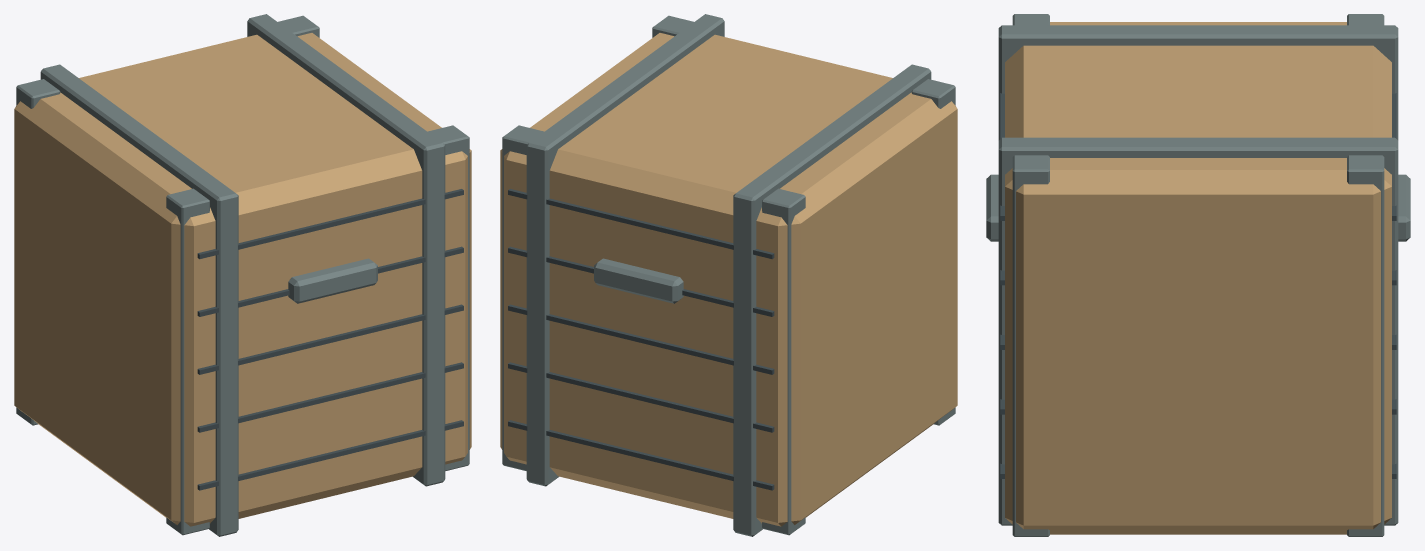
Rendered from crate.glb.
3 renders of one model, left to right at view 1: azimuth 30°, elevation 25°; view 2: azimuth 150°, elevation 25°; view 3: azimuth 270°, elevation 25°, orthographic. The views are drawn at different scales.
Visible parts, largest first — view 1: CrateBody, Band.001, Band, Detail corner guard, Detail handle, Detail plank seam.004, Detail plank seam, Detail plank seam.002, Detail plank seam.008, Detail corner guard.002, Detail plank seam.006, Detail corner guard.001 (+1 smaller); view 2: CrateBody, Band.001, Band, Detail corner guard.001, Detail handle.001, Detail plank seam.005, Detail plank seam.001, Detail plank seam.003, Detail plank seam.009, Detail corner guard.003, Detail plank seam.007, Detail corner guard (+1 smaller); view 3: CrateBody, Band.001, Band, Detail corner guard.002, Detail corner guard.003, Detail handle, Detail handle.001.
Part boxes in pixels (x1,y1,x2,y2): CrateBody: [14, 33, 471, 526]; Band.001: [247, 14, 445, 486]; Band: [40, 64, 238, 536]; Detail corner guard: [166, 188, 209, 535]; Detail handle: [288, 258, 377, 303]; Detail plank seam.004: [197, 304, 463, 374]; Detail plank seam: [197, 420, 463, 490]; Detail plank seam.002: [197, 362, 463, 432]; Detail plank seam.008: [197, 189, 463, 259]; Detail corner guard.002: [427, 125, 469, 470]; Detail plank seam.006: [197, 246, 463, 316]; Detail corner guard.001: [16, 79, 60, 425]; CrateBody: [500, 33, 957, 526]; Band.001: [526, 14, 724, 486]; Band: [733, 64, 931, 536]; Detail corner guard.001: [762, 188, 805, 535]; Detail handle.001: [594, 258, 683, 303]; Detail plank seam.005: [508, 304, 774, 374]; Detail plank seam.001: [508, 420, 774, 490]; Detail plank seam.003: [508, 362, 774, 432]; Detail plank seam.009: [508, 189, 774, 259]; Detail corner guard.003: [502, 125, 544, 470]; Detail plank seam.007: [508, 246, 774, 316]; Detail corner guard: [911, 79, 955, 425]; CrateBody: [1005, 22, 1391, 534]; Band.001: [998, 137, 1398, 525]; Band: [998, 25, 1398, 140]; Detail corner guard.002: [1012, 155, 1049, 536]; Detail corner guard.003: [1347, 155, 1384, 536]; Detail handle: [986, 174, 998, 241]; Detail handle.001: [1398, 174, 1410, 241].
Bounding box in the file's own units: 1.25 × 1.35 × 1.37.
